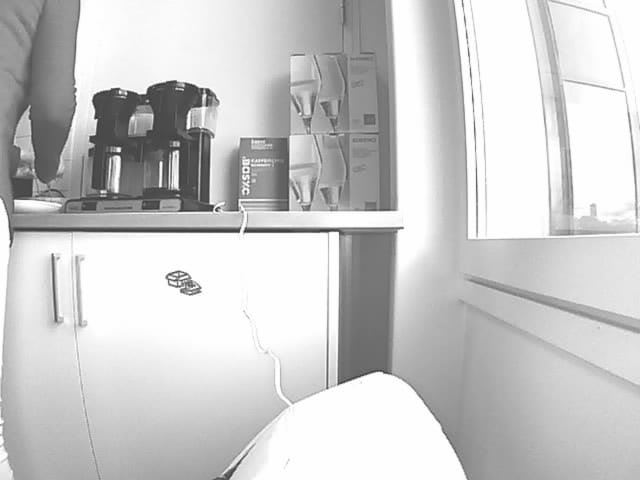empty coffee: (138, 137, 202, 198)
